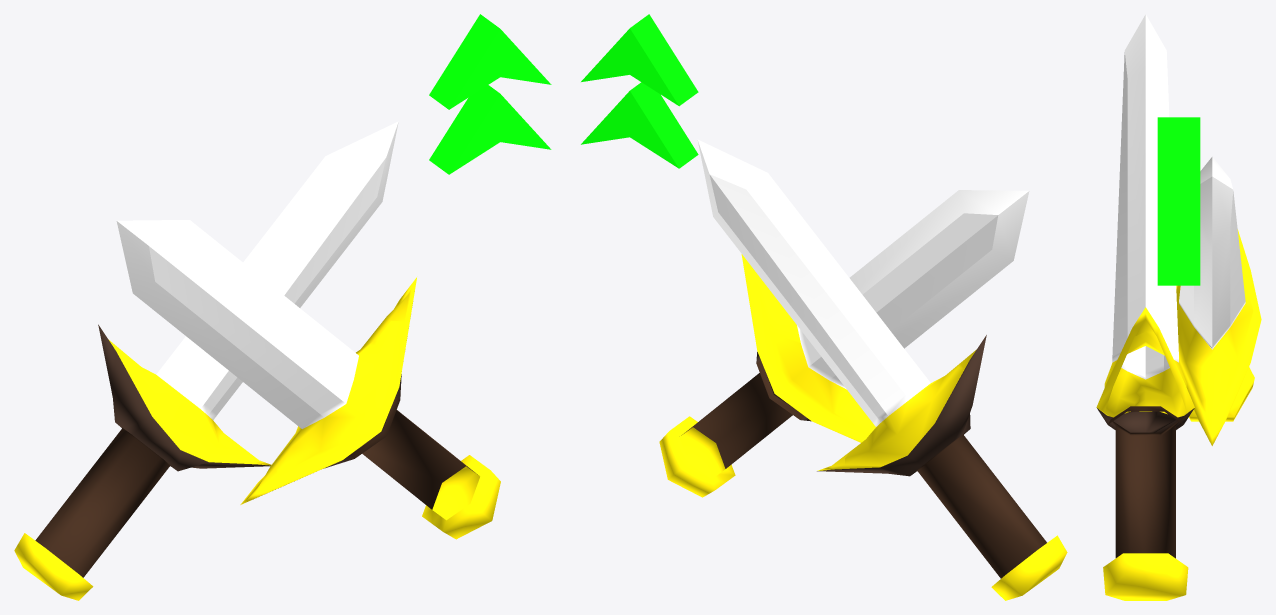
Rendered from atkspeed_pickup.glb.
3 renders of one model, left to right at view 1: azimuth 30°, elevation 25°; view 2: azimuth 150°, elevation 25°; view 3: azimuth 270°, elevation 25°, orthographic. The views are drawn at different scales.
Parts seen in each view (by area): view 1: atkspd_pickup; view 2: atkspd_pickup; view 3: atkspd_pickup.
Part boxes in pixels (x1,y1,x2,y2): atkspd_pickup: [14, 14, 551, 600]; atkspd_pickup: [581, 14, 1067, 600]; atkspd_pickup: [1096, 14, 1261, 600].
Size of the model in its own units: 0.6471 by 0.5975 by 0.1737.
